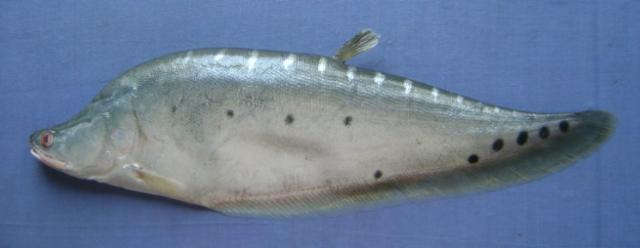Mulut: (25, 127, 73, 176)
Sirip Dada: (120, 154, 198, 210)
Sirip Punggung: (328, 20, 386, 78)
